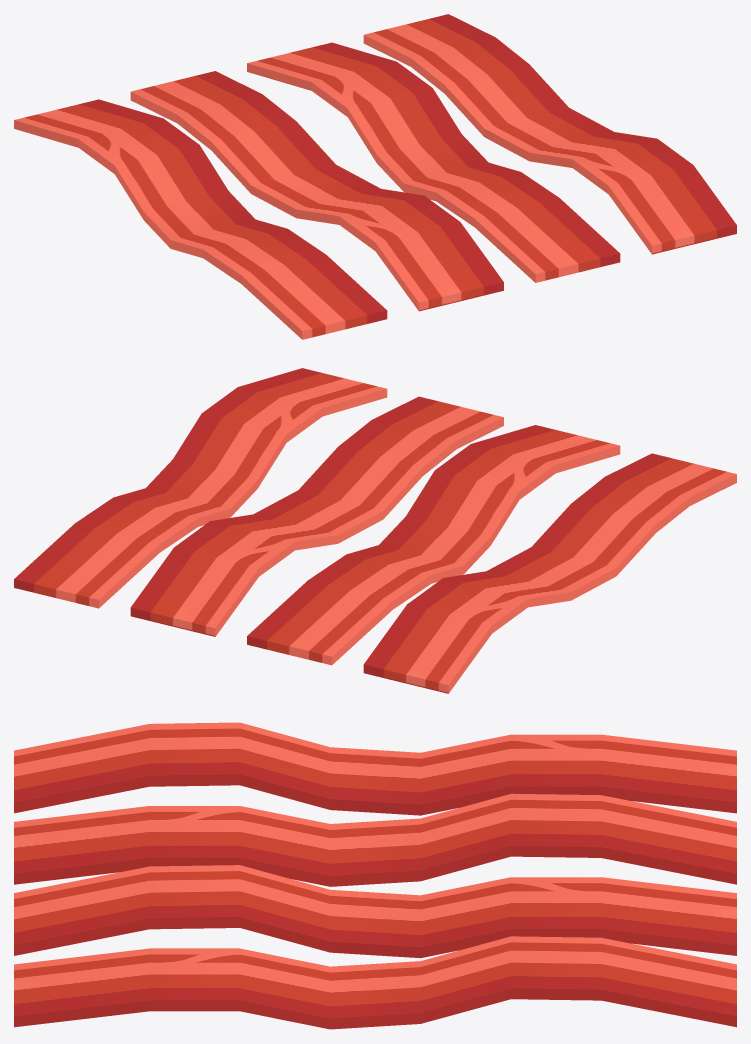
File: Bacon_Slice_Bacon_0.glb
3 views of the same model, one above another, from view 1: azimuth 30°, elevation 25°; view 2: azimuth 150°, elevation 25°; view 3: azimuth 270°, elevation 25° (orthographic). The views are drawn at different scales.
Parts seen in each view (by area): view 1: Bacon_Slice_Bacon_0; view 2: Bacon_Slice_Bacon_0; view 3: Bacon_Slice_Bacon_0.
Boxes of the visible parts, bbox=[...] form: Bacon_Slice_Bacon_0: bbox=[14, 14, 736, 339]; Bacon_Slice_Bacon_0: bbox=[14, 368, 736, 693]; Bacon_Slice_Bacon_0: bbox=[14, 722, 736, 1029].
Bounding box in the file's own units: 0.1785 × 0.01 × 0.1962.
1 material, 1 textured.
